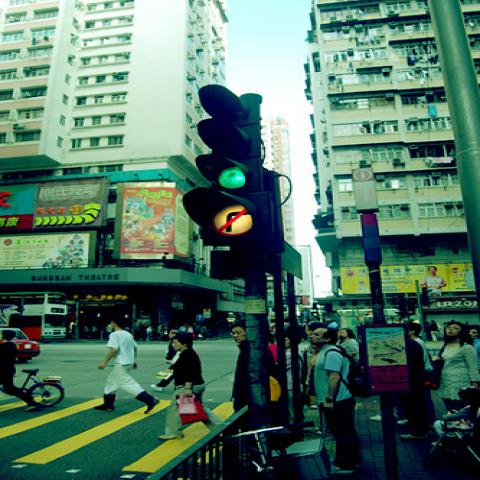bus: (1, 292, 67, 341)
car: (0, 328, 41, 364)
